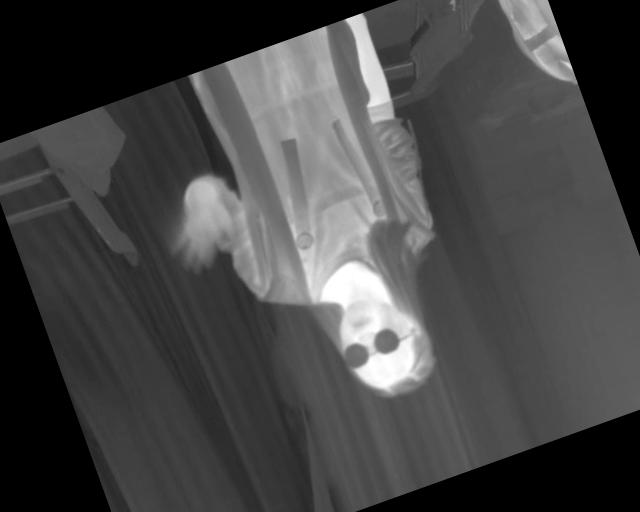face: (325, 280, 441, 409)
